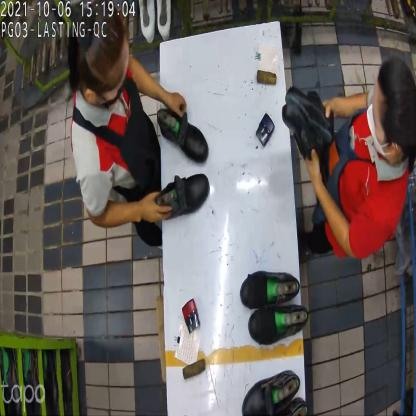shoes: (156, 99, 212, 220), (239, 267, 306, 346), (281, 84, 336, 164), (243, 368, 309, 415)
stamp: (184, 296, 202, 334), (258, 112, 275, 152)
